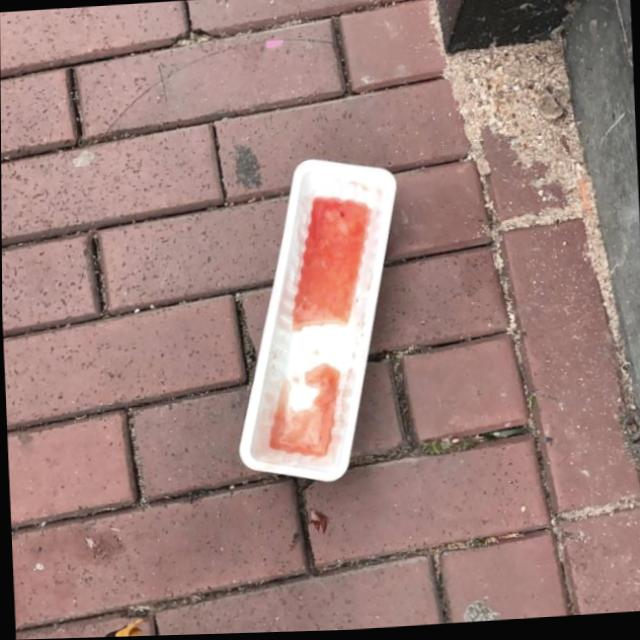Plastic: (223, 153, 410, 490)
